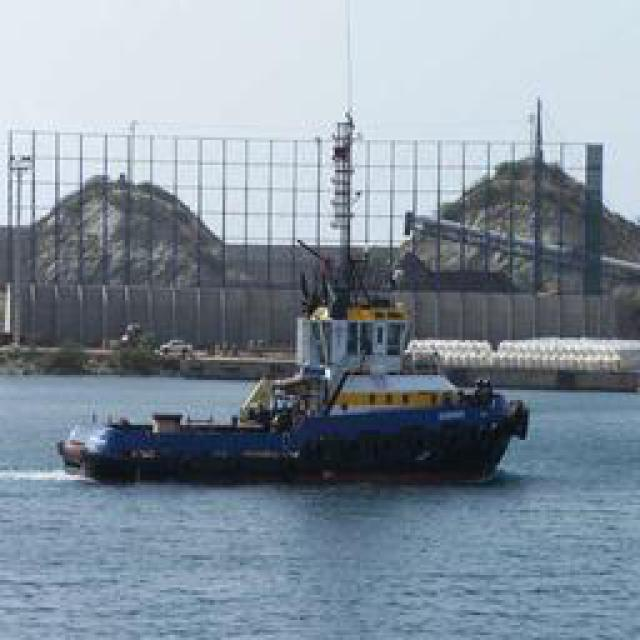Ship: (63, 369, 531, 484)
